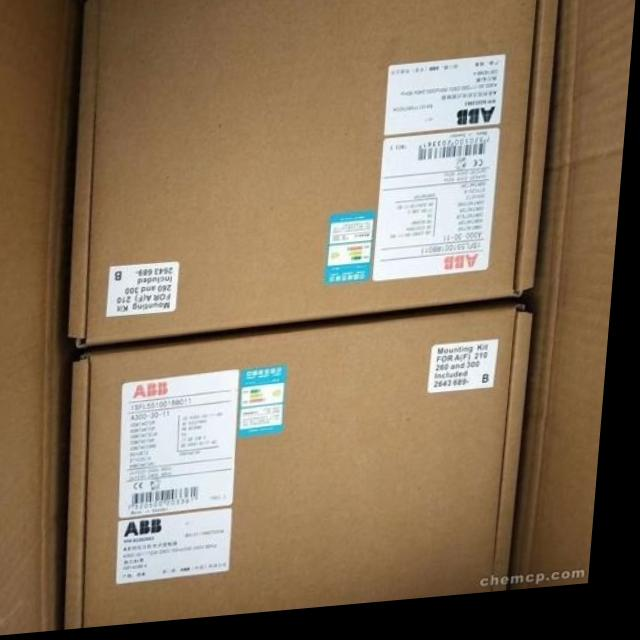box: (75, 0, 560, 351), (75, 314, 535, 630)
